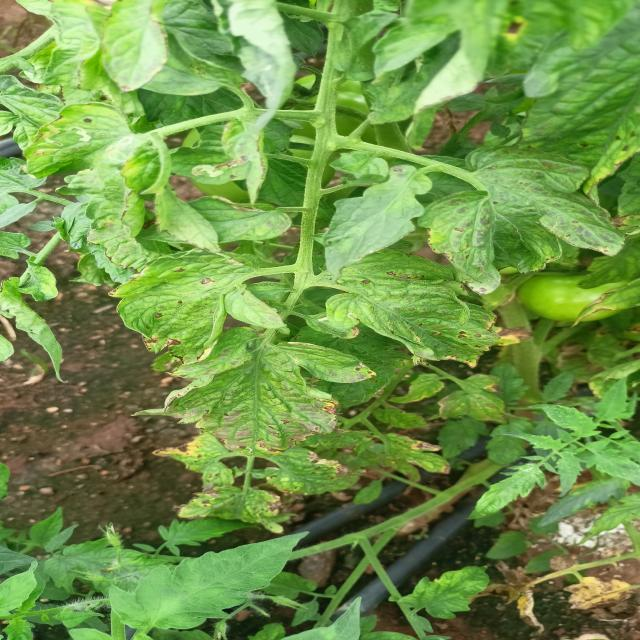Tomato mosaic virus leaf: (334, 260, 504, 368), (104, 259, 252, 369)
